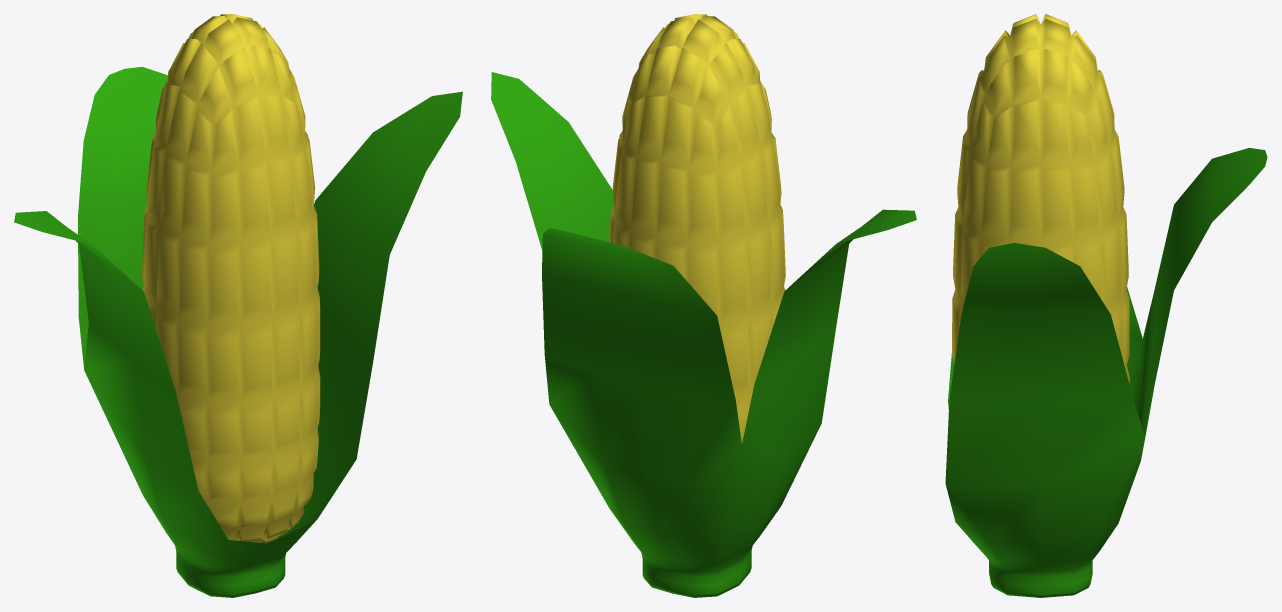
The model's file is Asset_14_elote.fbx.
3 views of the same model, side by side, from view 1: azimuth 30°, elevation 25°; view 2: azimuth 150°, elevation 25°; view 3: azimuth 270°, elevation 25° (orthographic).
Visible parts, largest first — view 1: elote, hoja; view 2: hoja, elote; view 3: hoja, elote.
Boxes of the visible parts, x1=… form: elote: x1=142, y1=14, x2=320, y2=543; hoja: x1=14, y1=66, x2=462, y2=597; hoja: x1=491, y1=72, x2=916, y2=597; elote: x1=609, y1=14, x2=785, y2=443; hoja: x1=945, y1=148, x2=1267, y2=597; elote: x1=952, y1=14, x2=1129, y2=383.
Size of the model in its own units: 539 by 660 by 343.
